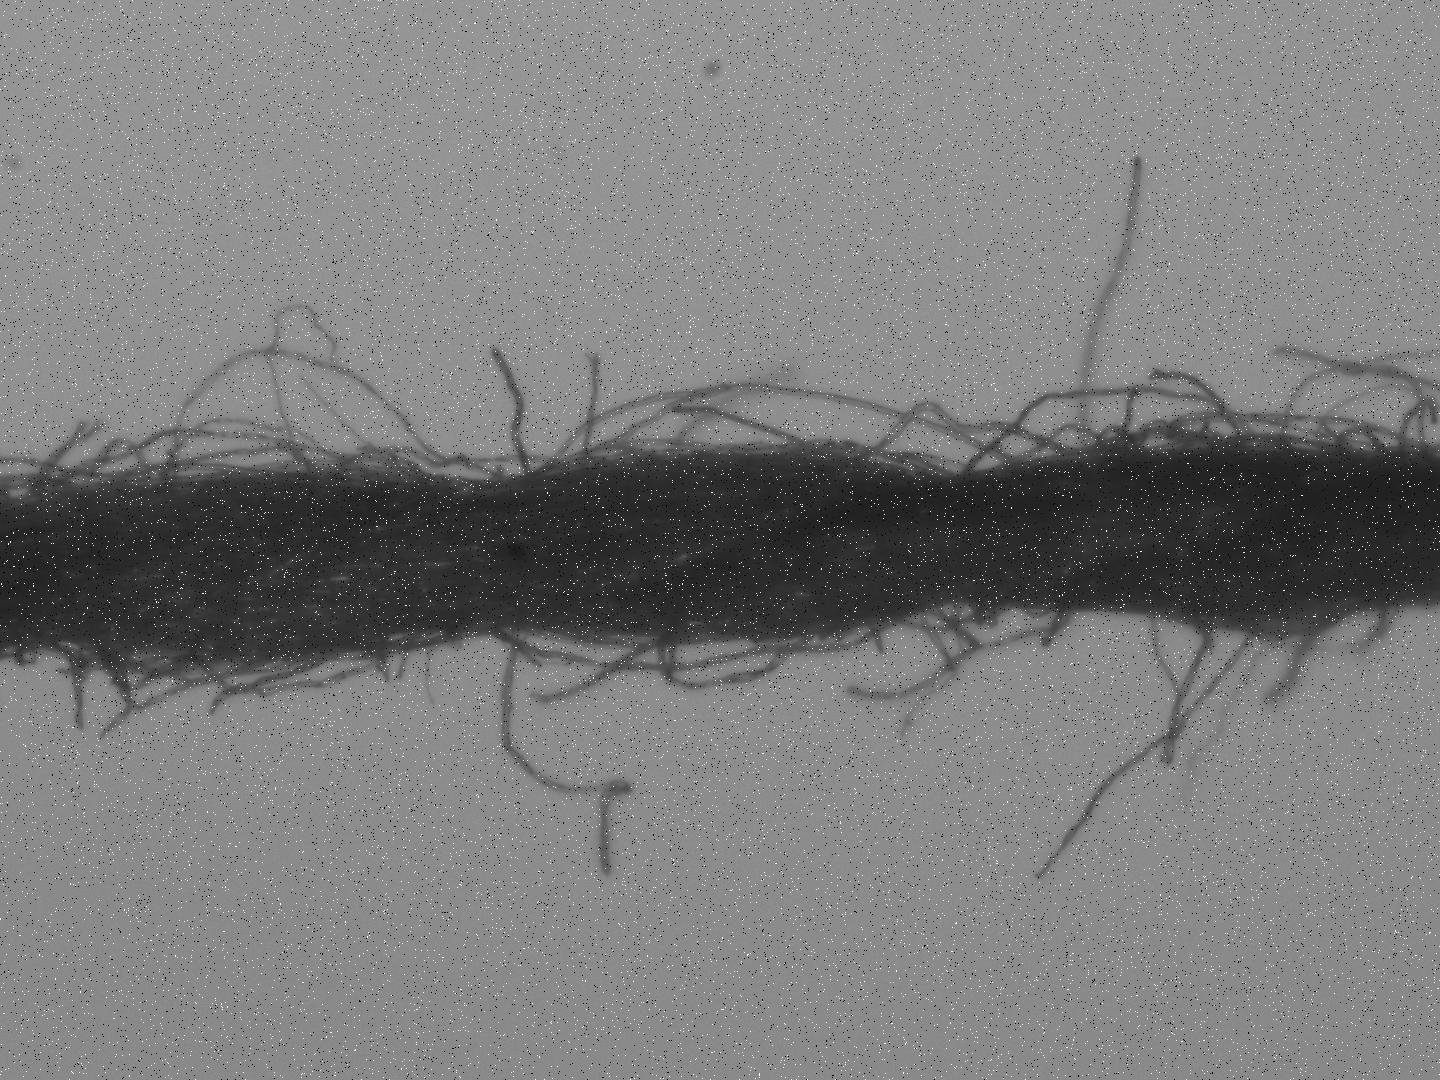loop_fiber: (507, 621, 882, 673), (116, 446, 320, 487), (798, 439, 958, 487), (332, 447, 507, 481), (560, 440, 726, 474), (29, 422, 92, 499), (186, 659, 317, 695), (1015, 425, 1108, 469), (893, 602, 1006, 636), (1140, 419, 1227, 456), (378, 630, 464, 651), (1335, 430, 1392, 462), (1236, 437, 1305, 457)
protruding_fiber: (1030, 638, 1259, 884), (501, 636, 630, 878), (1077, 157, 1147, 452), (1154, 370, 1263, 455), (493, 346, 532, 476), (586, 356, 604, 462)
